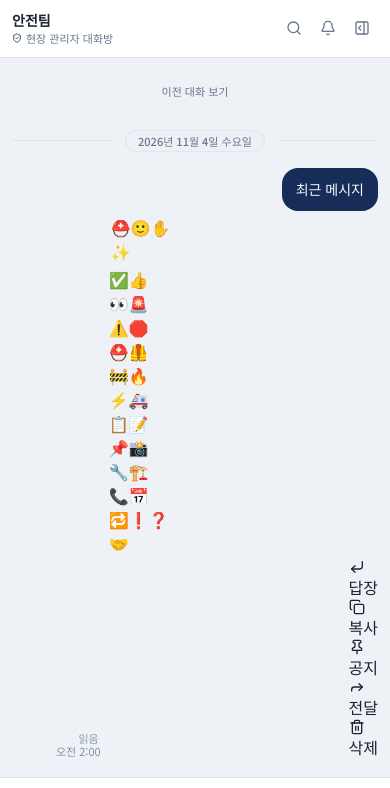
it: MessengerChatPane history and mute › shows older history and a per-room mute control
The image size is (390, 788).
Later steps or results of the test are not shown.
expect the button named "이 방 알림 끄기" is shown: met, box [312,12,344,44]
Click the button "이전 대화 보기" at (195, 92), box [150,76,240,108]
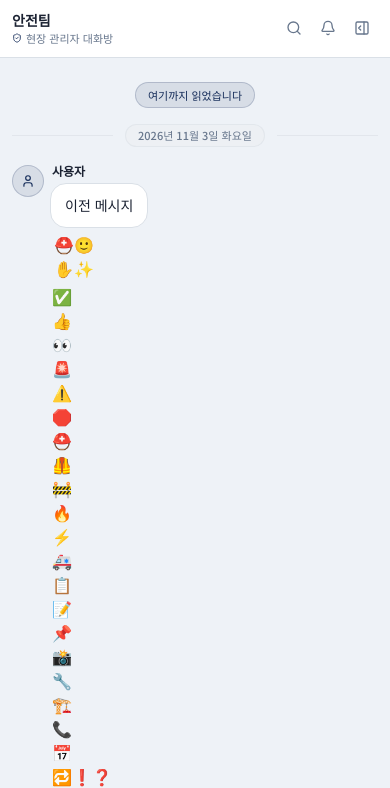
expect the text "이전 메시지" is shown: met, box [65,194,133,217]
